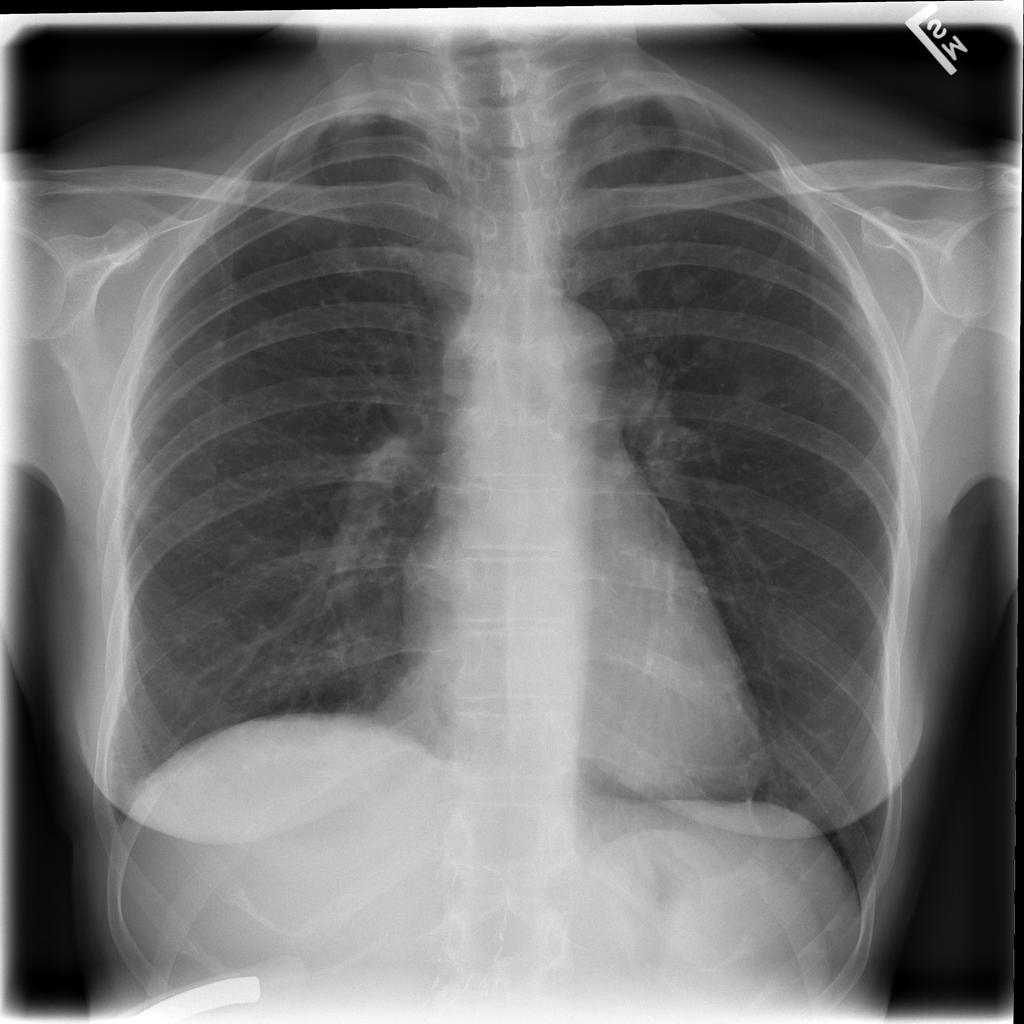nodule: (662, 265, 715, 314), (685, 325, 739, 370), (601, 262, 649, 307)
